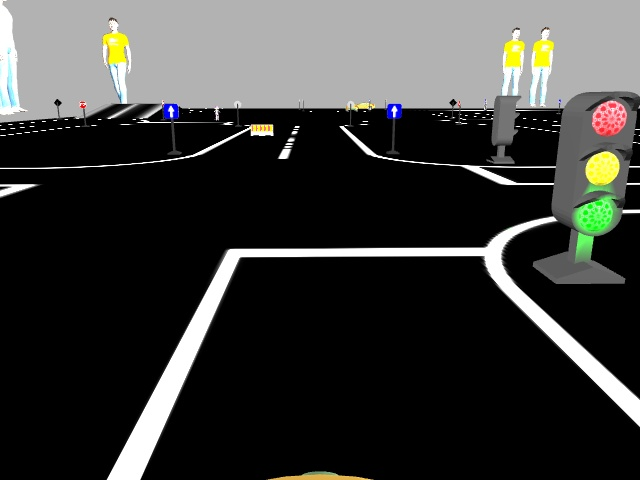ClosedRoadStand: (250, 124, 272, 136)
OneWay: (387, 102, 399, 116), (164, 103, 176, 117)
TrafficLight: (556, 91, 637, 234)
